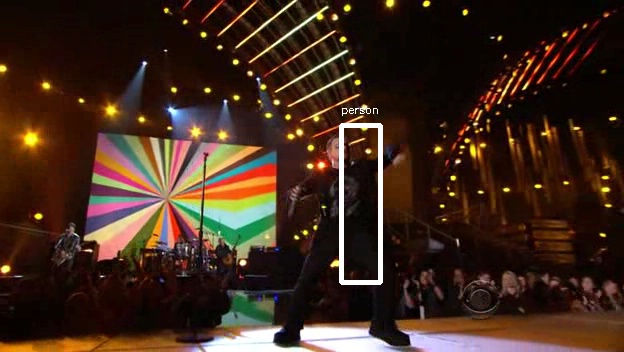person: (312, 136, 378, 256), (309, 136, 375, 256), (315, 136, 381, 256), (312, 133, 378, 253), (312, 139, 378, 259)
target_negative: (34, 88, 197, 234), (408, 175, 532, 233), (141, 77, 242, 125), (98, 259, 359, 275), (125, 284, 455, 288)
